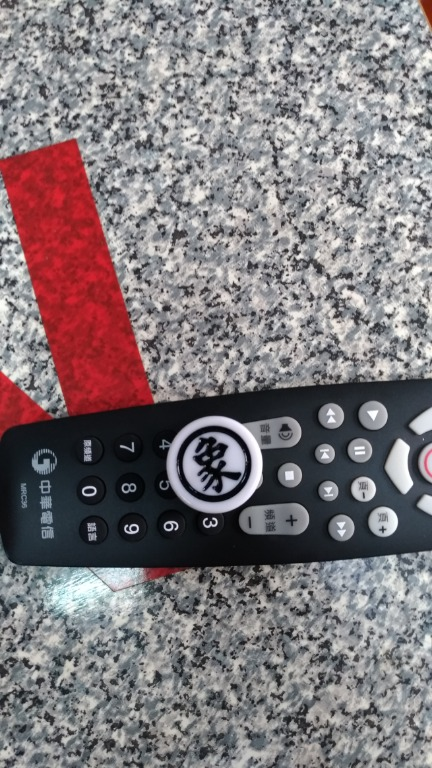b-elephant: (153, 404, 288, 528)
